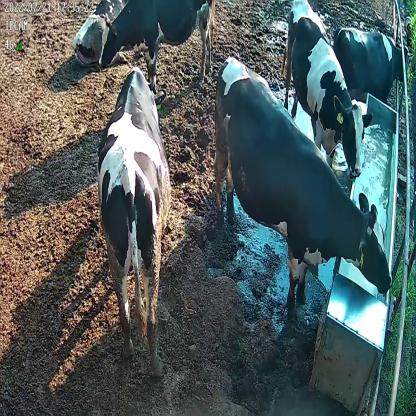cow: (212, 55, 394, 312), (96, 68, 171, 382), (283, 0, 372, 181), (98, 0, 216, 96), (334, 24, 410, 106)
